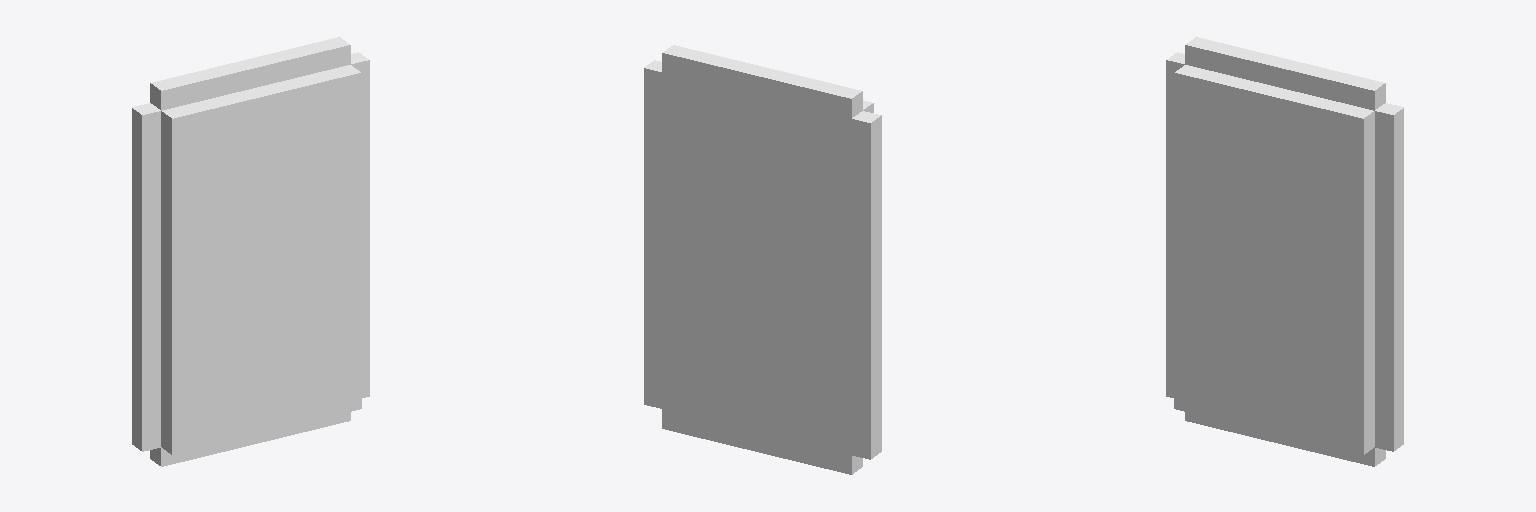
File: TVS_VoxelKnights_Shield.obj
3 renders of one model, left to right at view 1: azimuth 30°, elevation 25°; view 2: azimuth 150°, elevation 25°; view 3: azimuth 330°, elevation 25°, orthographic.
Visible parts, largest first — view 1: VS_Knights_Props_Shield_001; view 2: VS_Knights_Props_Shield_001; view 3: VS_Knights_Props_Shield_001.
Part boxes in pixels (left/top/right/bottom): VS_Knights_Props_Shield_001: left=132, top=37, right=369, bottom=466; VS_Knights_Props_Shield_001: left=644, top=45, right=881, bottom=474; VS_Knights_Props_Shield_001: left=1166, top=37, right=1403, bottom=466.
Bounding box in the file's own units: 1.2 × 1.9 × 0.2.